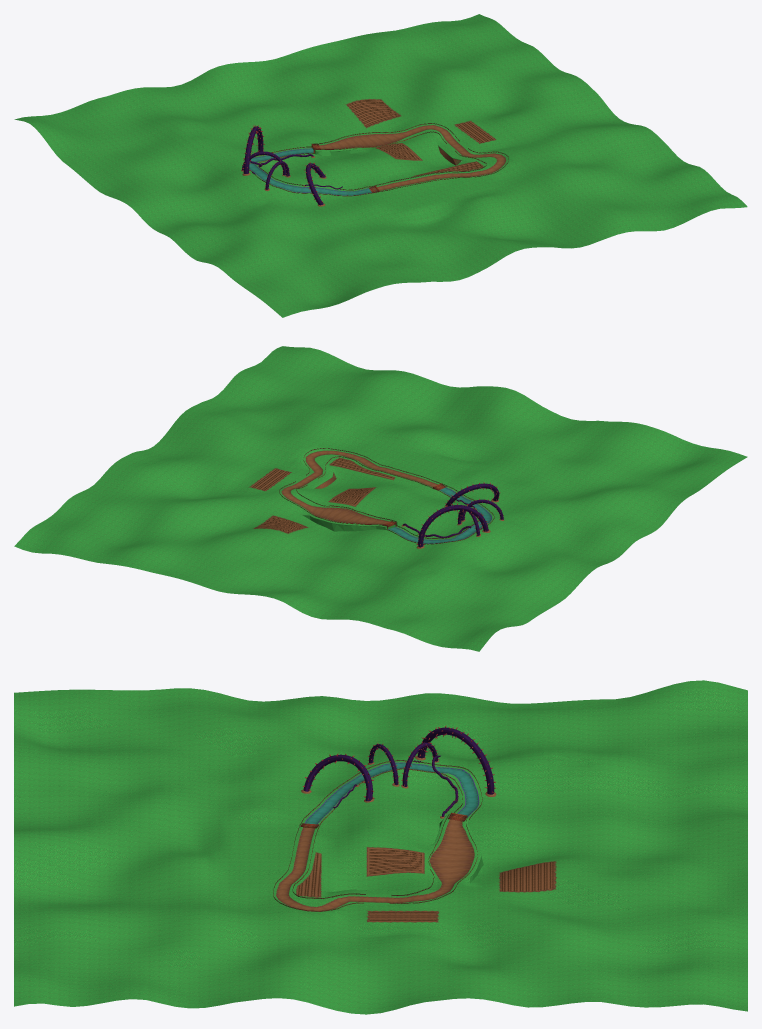
The model's file is Terrain.FBX.
The picture shows the model from 3 angles, top to bottom: view 1: azimuth 30°, elevation 25°; view 2: azimuth 150°, elevation 25°; view 3: azimuth 270°, elevation 25°; orthographic projection. The views are drawn at different scales.
Parts seen in each view (by area): view 1: Terrain, Road, Railing; view 2: Terrain, Road, Taint_Vine002, Railing; view 3: Terrain, Road, Taint_Vine002, Taint_Vine006, Railing.
Boxes of the visible parts, x1,y1,x2,y2 form: Terrain: (14, 14, 747, 317); Road: (249, 125, 506, 195); Railing: (243, 123, 508, 196); Terrain: (14, 346, 747, 651); Road: (281, 450, 491, 543); Taint_Vine002: (416, 503, 488, 547); Railing: (279, 448, 494, 544); Terrain: (14, 680, 747, 1014); Road: (275, 762, 479, 911); Taint_Vine002: (417, 725, 495, 794); Taint_Vine006: (303, 753, 374, 801); Railing: (273, 760, 482, 911).
Bounding box in the file's own units: 13464 × 1340 × 13464.
